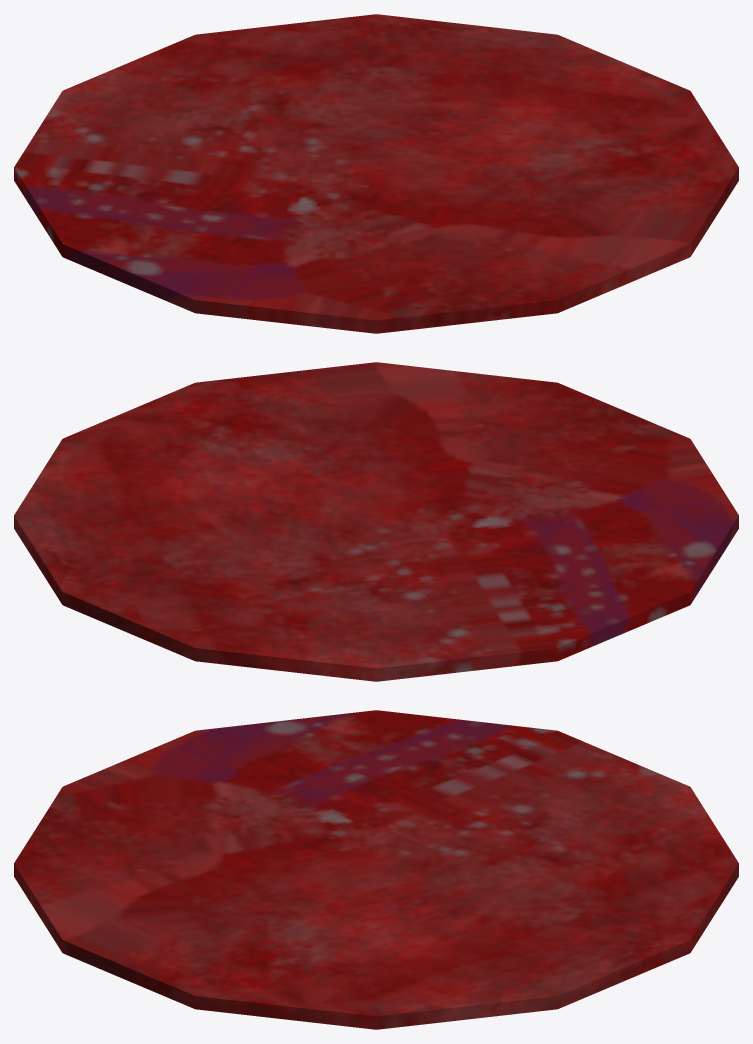
File: SM_Aeropress_Filter.fbx
The picture shows the model from 3 angles, top to bottom: view 1: azimuth 30°, elevation 25°; view 2: azimuth 150°, elevation 25°; view 3: azimuth 270°, elevation 25°; orthographic projection.
Visible parts, largest first — view 1: SM_Aeropress_Filter; view 2: SM_Aeropress_Filter; view 3: SM_Aeropress_Filter.
Boxes of the visible parts, x1,y1,x2,y2 form: SM_Aeropress_Filter: [14, 14, 738, 333]; SM_Aeropress_Filter: [14, 362, 738, 681]; SM_Aeropress_Filter: [14, 710, 738, 1029].
Bounding box in the file's own units: 175 × 3.53 × 175.
